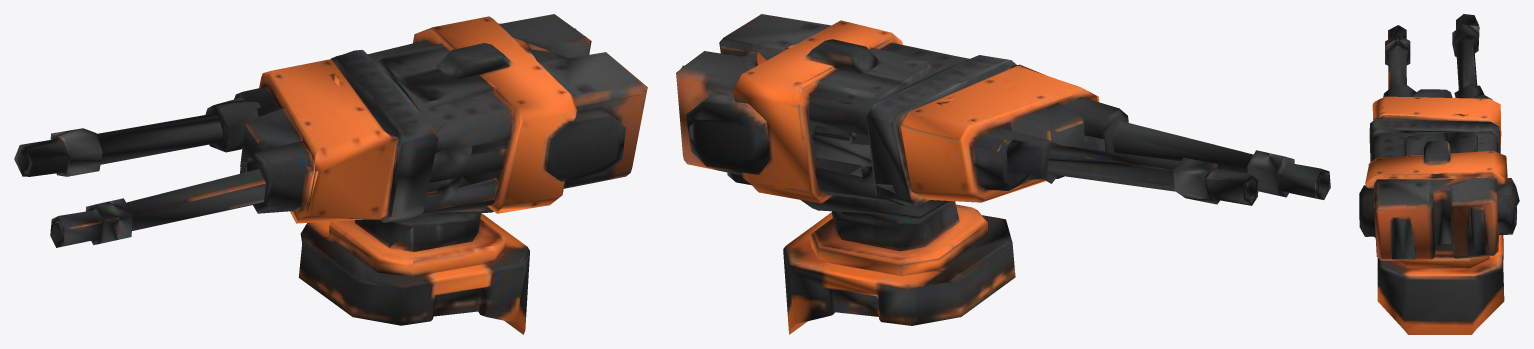
The model's file is Gun_Turret.fbx.
The picture shows the model from 3 angles, left to right: view 1: azimuth 30°, elevation 25°; view 2: azimuth 150°, elevation 25°; view 3: azimuth 270°, elevation 25°; orthographic projection. The views are drawn at different scales.
Visible parts, largest first — view 1: Gun_Turret; view 2: Gun_Turret; view 3: Gun_Turret.
Part boxes in pixels (bbox=[...]): Gun_Turret: bbox=[14, 14, 647, 334]; Gun_Turret: bbox=[676, 14, 1330, 334]; Gun_Turret: bbox=[1359, 14, 1519, 334].
Size of the model in its own units: 41.8 by 18.9 by 15.23.
